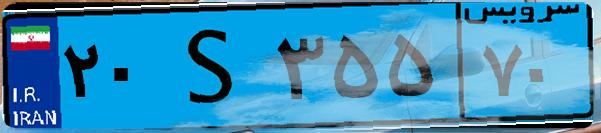0: (525, 38, 570, 115), (110, 28, 158, 98)
2: (57, 26, 110, 100)
3: (270, 28, 330, 110)
5: (385, 28, 445, 110), (330, 28, 385, 110)
7: (475, 38, 525, 113)
S: (158, 12, 270, 120)
